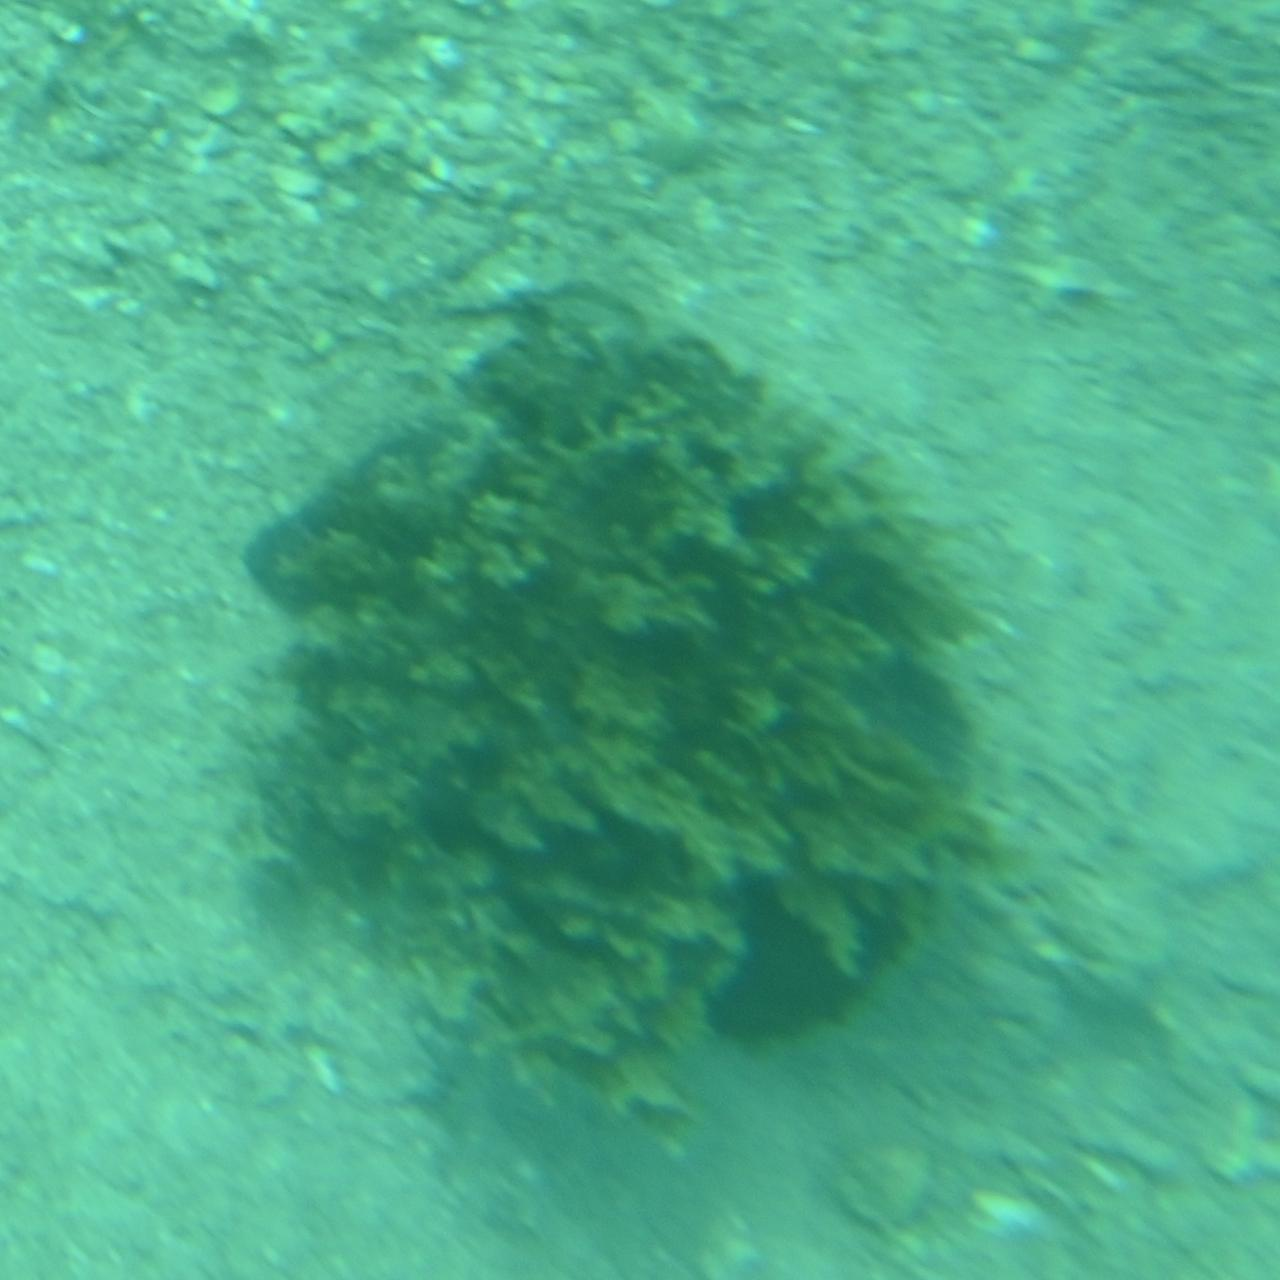Phaeophyceae -cfr Cystoseira-: (244, 280, 1036, 1166)
